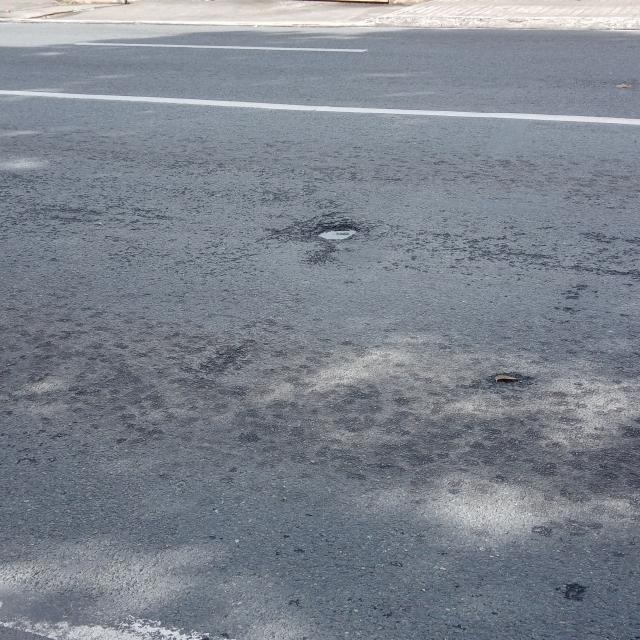pothole: (255, 196, 425, 282)
